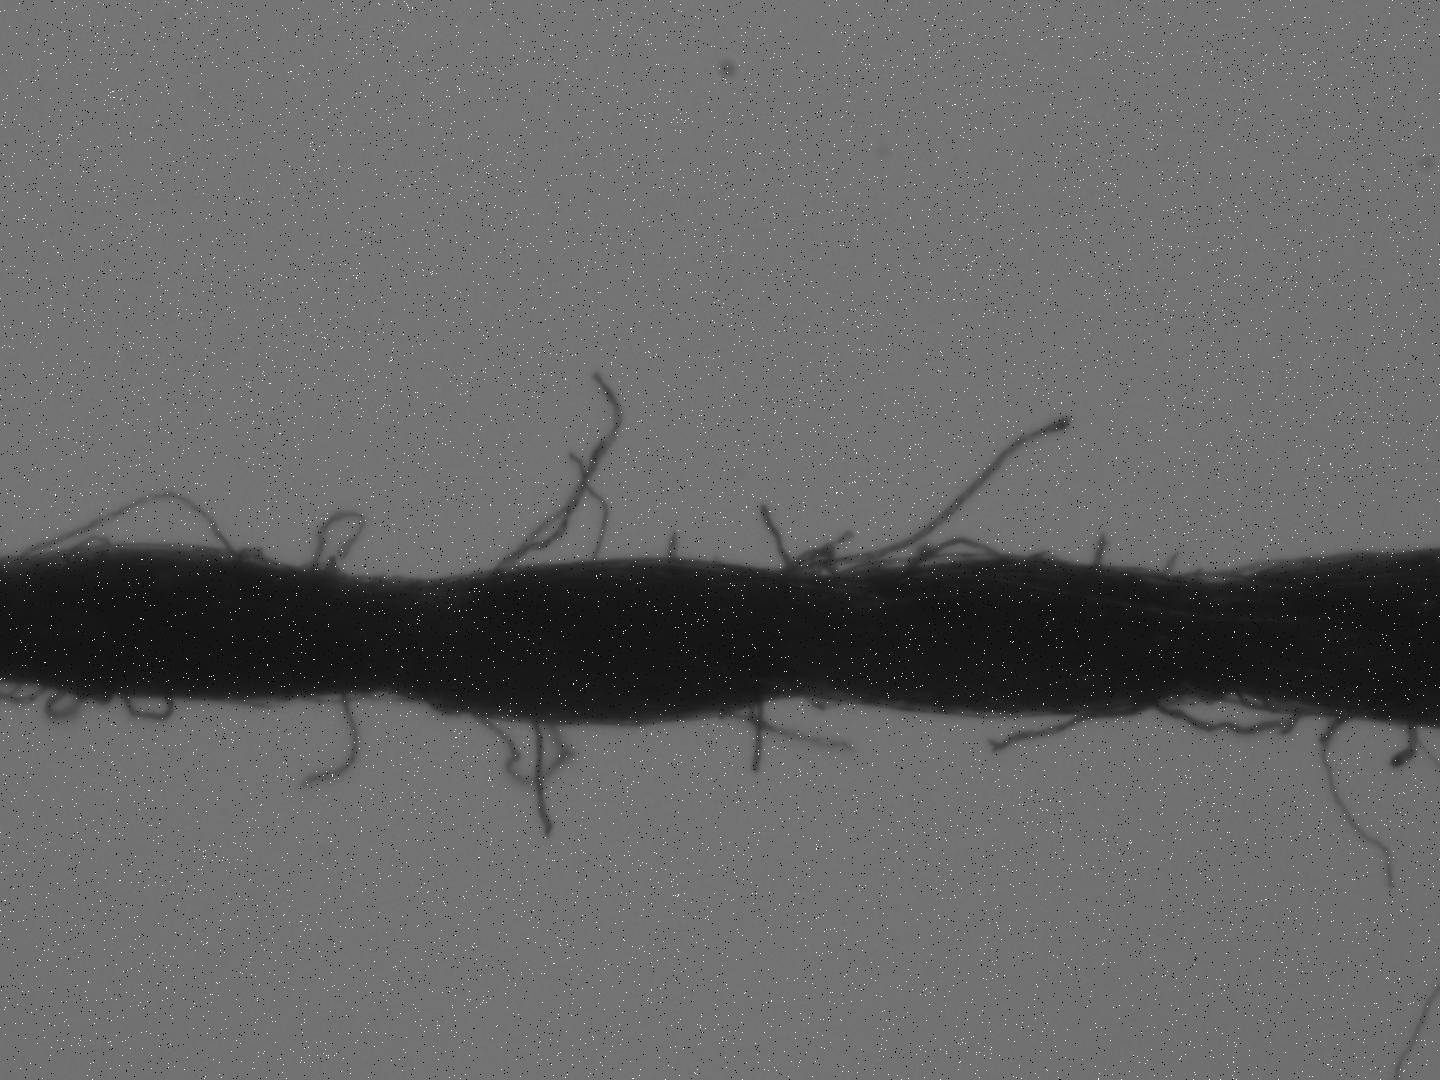loop_fiber: (12, 487, 245, 560), (1143, 691, 1307, 739), (473, 715, 570, 787), (901, 532, 1007, 569), (773, 545, 838, 584), (119, 694, 169, 723)
protruding_fiber: (803, 414, 1069, 576), (494, 376, 621, 571), (298, 690, 356, 790), (302, 508, 370, 572), (988, 715, 1075, 756), (530, 722, 552, 837), (752, 501, 790, 567), (747, 692, 768, 775), (1087, 534, 1109, 572)
